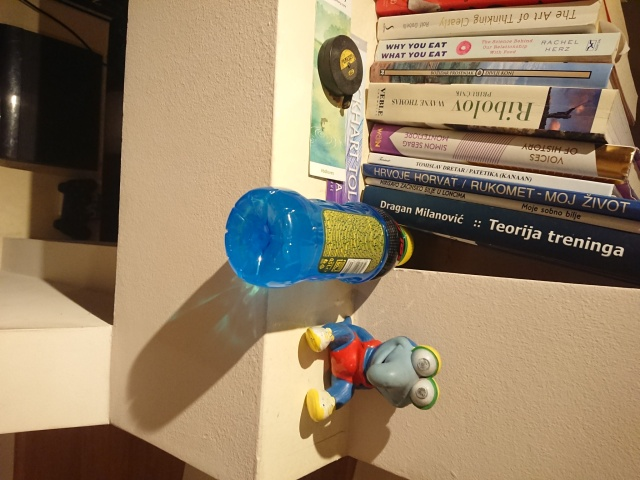Vindi Iso Sport Forest Strawberries 500mL: (222, 184, 425, 290)
